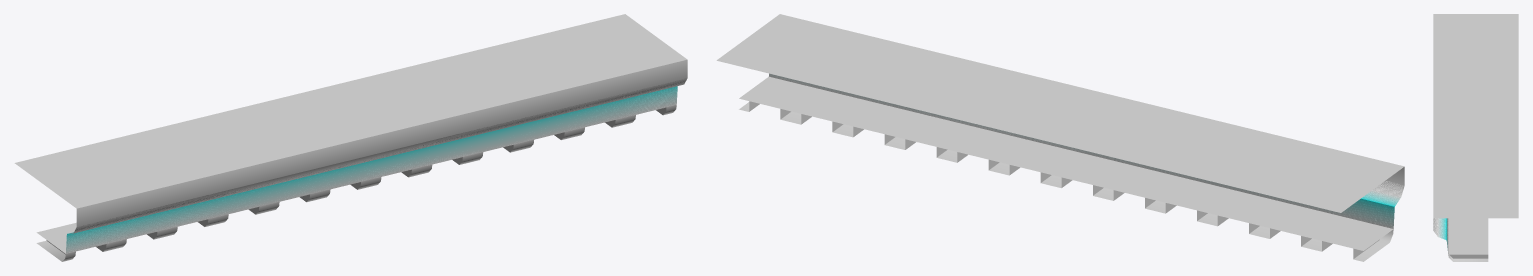
The model's file is SM_CorniceA6m.fbx.
The picture shows the model from 3 angles, left to right: view 1: azimuth 30°, elevation 25°; view 2: azimuth 150°, elevation 25°; view 3: azimuth 270°, elevation 25°; orthographic projection. The views are drawn at different scales.
Visible parts, largest first — view 1: SM_CorniceA6m; view 2: SM_CorniceA6m; view 3: SM_CorniceA6m.
Part boxes in pixels (left/top/right/bottom): SM_CorniceA6m: left=14, top=14, right=687, bottom=261; SM_CorniceA6m: left=716, top=14, right=1404, bottom=261; SM_CorniceA6m: left=1433, top=14, right=1518, bottom=261.
Size of the model in its own units: 600 by 60 by 106.
